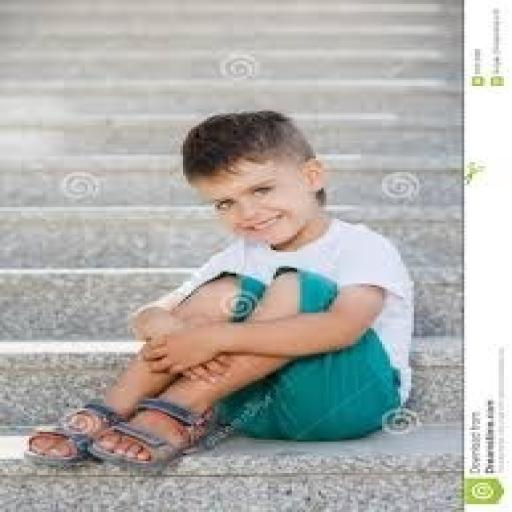sitting: (21, 107, 417, 473)
